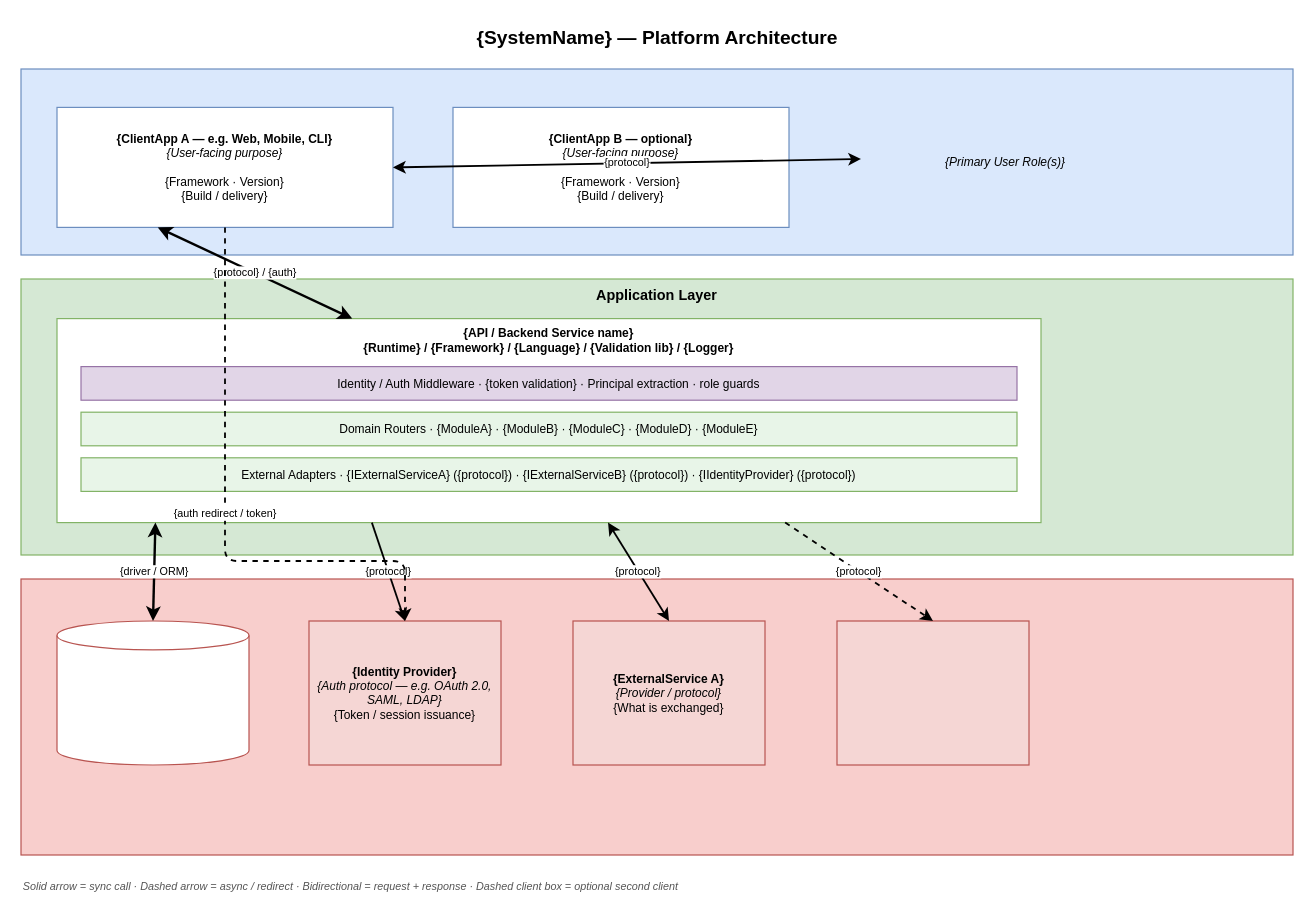
Image size: 1314x914. Some labels were removed from this diagram. Here are the shapes that lost their labels. From the top down, the box of each, then its label:
(20, 68, 1293, 255): Client / Access Layer
(56, 620, 249, 765): {PrimaryStore} {Technology + version} {What is persisted}
(836, 620, 1029, 765): {ExternalService B} {Provider / protocol} {What is exchanged}
(20, 578, 1293, 855): Data & External Services Layer
